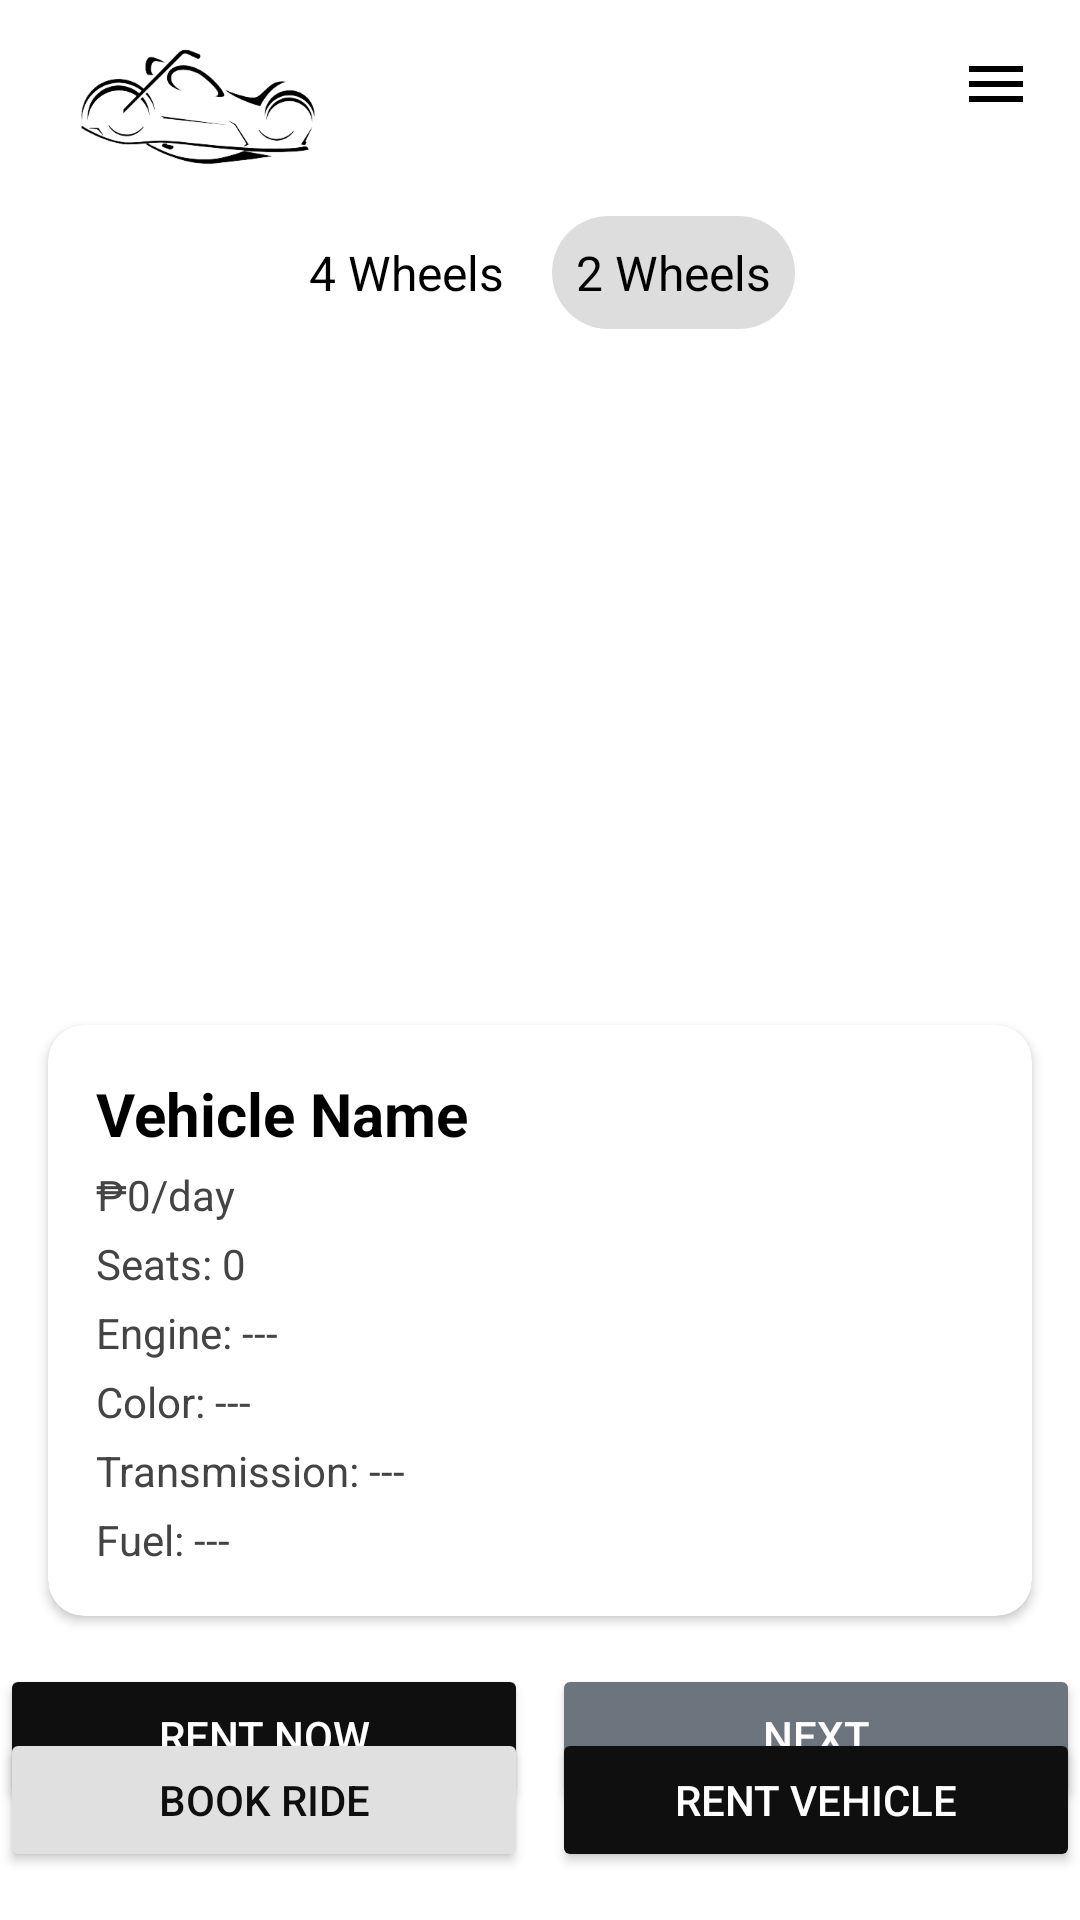

Locate icon controls on the screen. Image size 1080 × 1920, boxes as (x1, y1, x2, y2).
Menu: (969, 66, 1023, 102)
